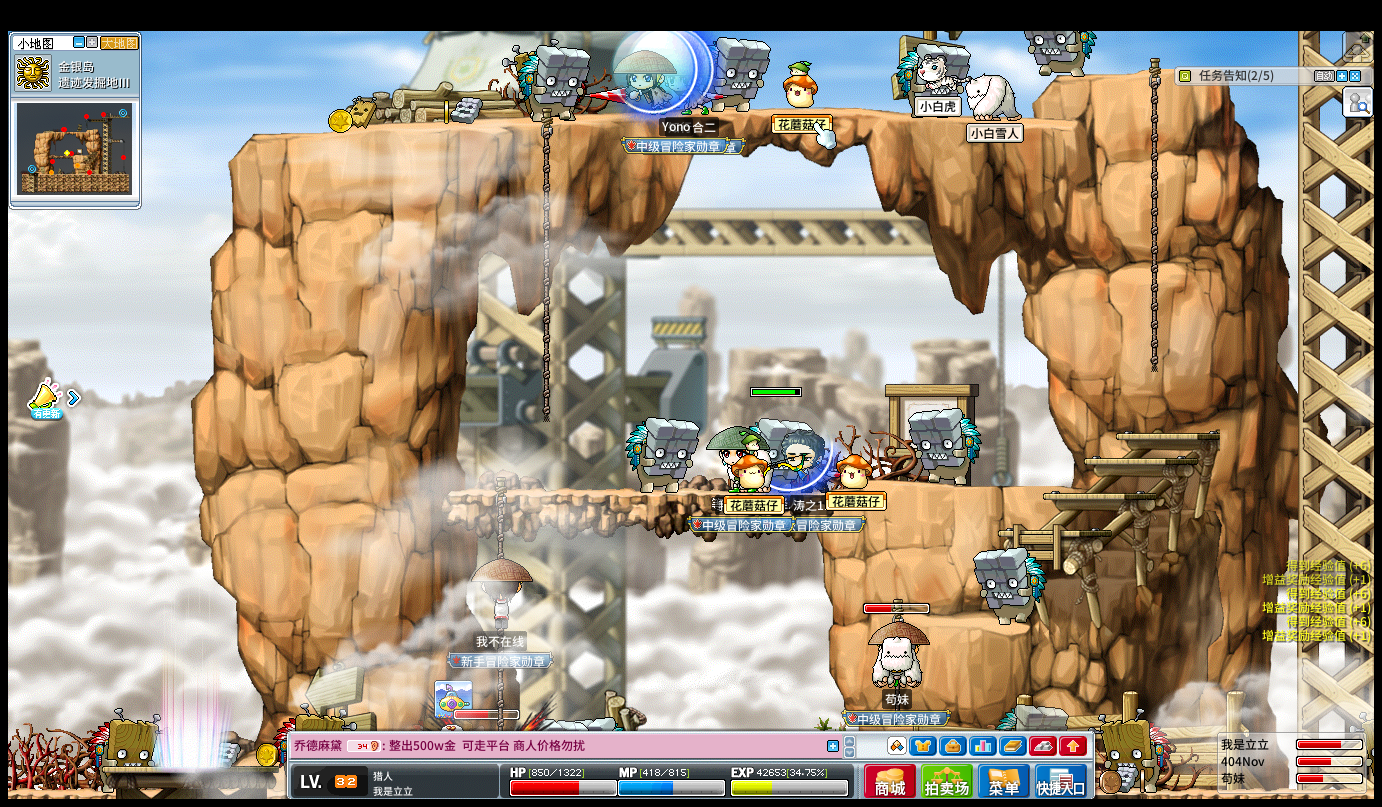floor: (237, 105, 1112, 141), (444, 487, 821, 501), (890, 481, 1074, 494), (922, 614, 1030, 635), (1053, 68, 1164, 81), (1115, 429, 1221, 441), (1077, 456, 1196, 465), (1044, 492, 1157, 500), (998, 528, 1110, 536)
monster: (1094, 710, 1170, 791), (624, 416, 699, 494), (907, 408, 982, 486), (519, 43, 590, 122), (972, 547, 1044, 624), (88, 712, 165, 778), (716, 36, 772, 112)
rope: (1147, 56, 1161, 375), (538, 113, 550, 428), (491, 479, 505, 561)
